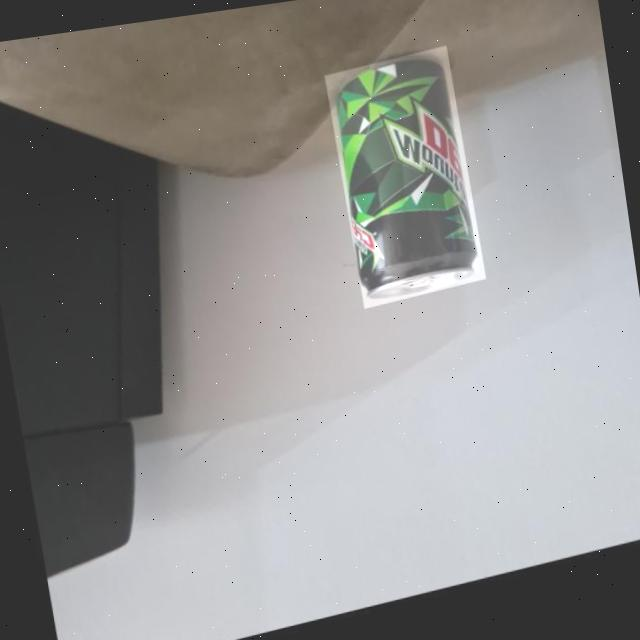trash: (321, 49, 487, 309)
